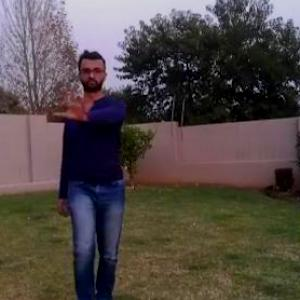follow_hand: (54, 85, 93, 123)
